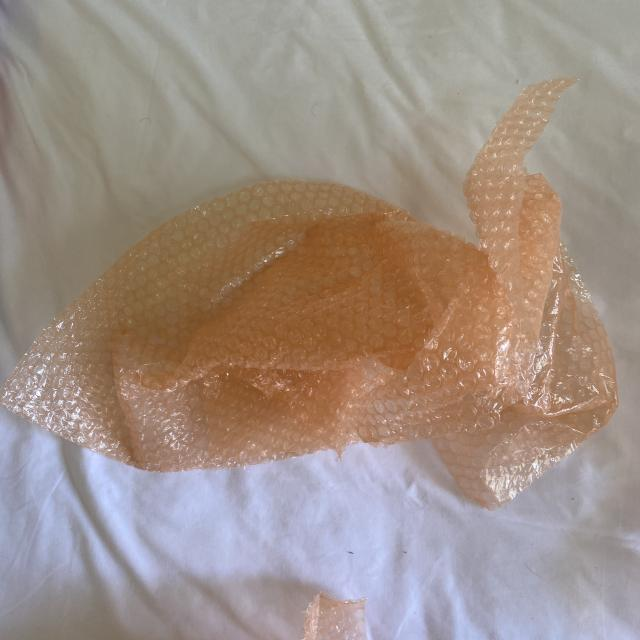Single-layer Plastic: (0, 78, 620, 511)
